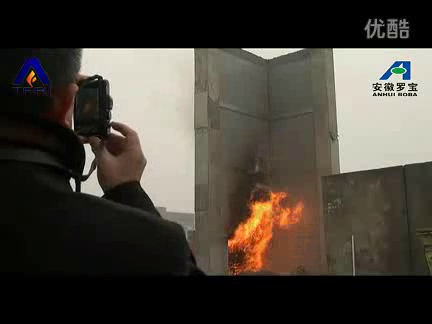fire: (225, 189, 307, 273)
